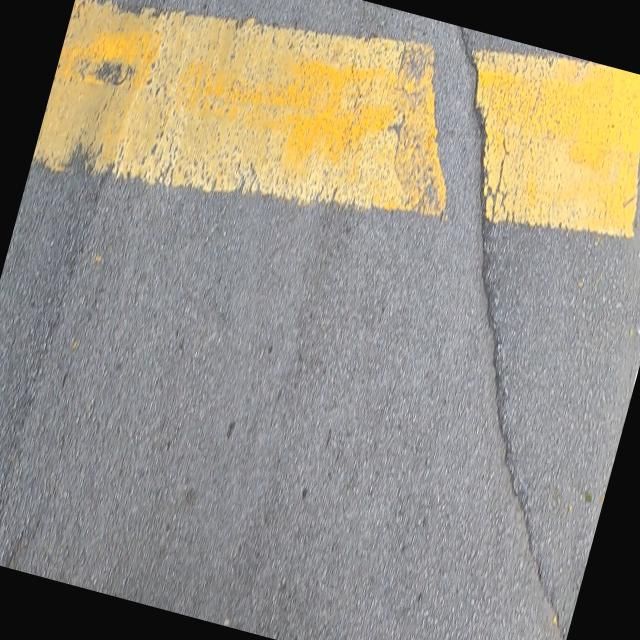Retak-Memanjang: (456, 26, 567, 640)
